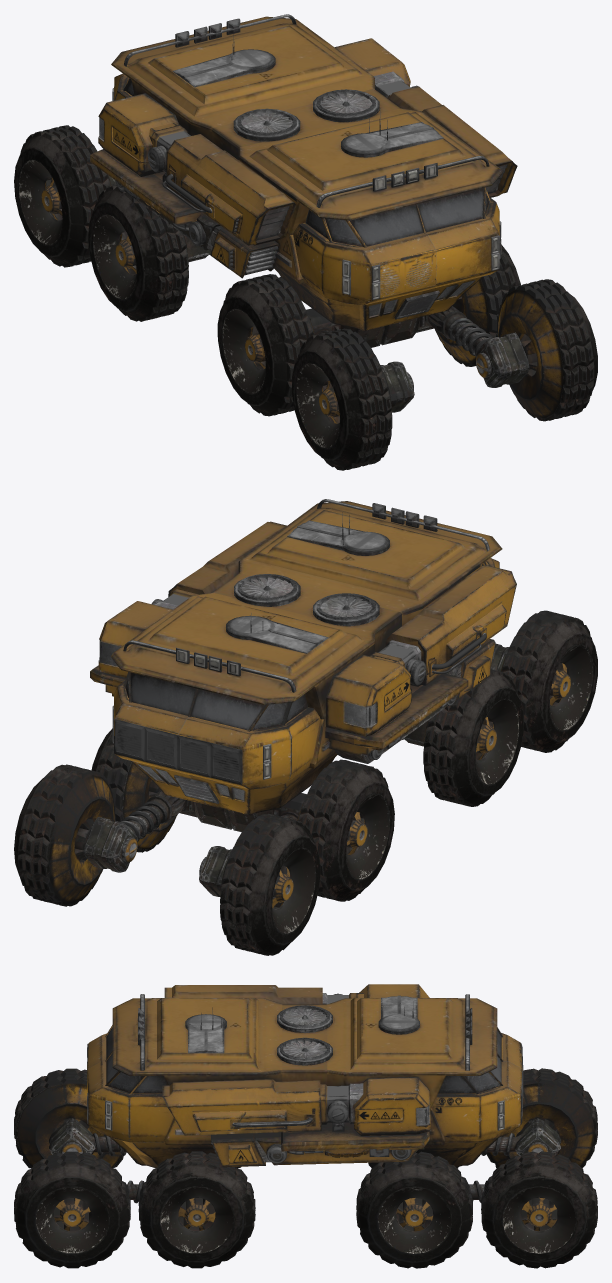
The model's file is Vehicle.fbx.
The picture shows the model from 3 angles, top to bottom: view 1: azimuth 30°, elevation 25°; view 2: azimuth 150°, elevation 25°; view 3: azimuth 270°, elevation 25°; orthographic projection. The views are drawn at different scales.
Parts seen in each view (by area): view 1: bodytop, wheel1, wheel2, upperarm, bodybot, screen, lowerarm, antennae, axle2, vent4, light, vent1 (+4 smaller); view 2: bodytop, wheel1, wheel2, upperarm, bodybot, lowerarm, screen, vent3, antennae, axle2, vent4, axle1 (+5 smaller); view 3: wheel1, bodytop, wheel2, upperarm, bodybot, lowerarm, axle2, antennae, vent4, screen, detail2, detail3 (+3 smaller).
Boxes of the visible parts, x1=… form: bodytop: x1=111, y1=16, x2=502, y2=284; wheel1: x1=14, y1=125, x2=597, y2=470; wheel2: x1=88, y1=185, x2=520, y2=416; upperarm: x1=98, y1=38, x2=517, y2=245; bodybot: x1=114, y1=73, x2=499, y2=330; screen: x1=126, y1=78, x2=488, y2=246; lowerarm: x1=90, y1=149, x2=279, y2=278; antennae: x1=172, y1=34, x2=443, y2=157; axle2: x1=108, y1=175, x2=529, y2=412; vent4: x1=233, y1=89, x2=379, y2=141; light: x1=112, y1=18, x2=501, y2=300; vent1: x1=244, y1=164, x2=507, y2=319; bodytop: x1=111, y1=501, x2=502, y2=768; wheel1: x1=14, y1=610, x2=597, y2=955; wheel2: x1=91, y1=669, x2=523, y2=901; upperarm: x1=98, y1=521, x2=516, y2=736; bodybot: x1=114, y1=558, x2=499, y2=815; lowerarm: x1=90, y1=639, x2=495, y2=763; screen: x1=125, y1=562, x2=486, y2=730; vent3: x1=114, y1=719, x2=242, y2=784; antennae: x1=226, y1=512, x2=389, y2=653; axle2: x1=84, y1=643, x2=509, y2=896; vent4: x1=234, y1=574, x2=379, y2=626; axle1: x1=180, y1=721, x2=427, y2=832; wheel1: x1=14, y1=1068, x2=597, y2=1268; bodytop: x1=112, y1=998, x2=497, y2=1144; wheel2: x1=138, y1=1151, x2=472, y2=1268; upperarm: x1=162, y1=984, x2=430, y2=1135; bodybot: x1=87, y1=1033, x2=522, y2=1168; lowerarm: x1=211, y1=1122, x2=429, y2=1167; axle2: x1=49, y1=1118, x2=560, y2=1199; antennae: x1=185, y1=995, x2=419, y2=1053; vent4: x1=277, y1=1005, x2=332, y2=1065; screen: x1=106, y1=1027, x2=501, y2=1093; detail2: x1=61, y1=993, x2=548, y2=1163; detail3: x1=140, y1=994, x2=469, y2=1127.
Bounding box in the file's own units: 376 × 324 × 772.
